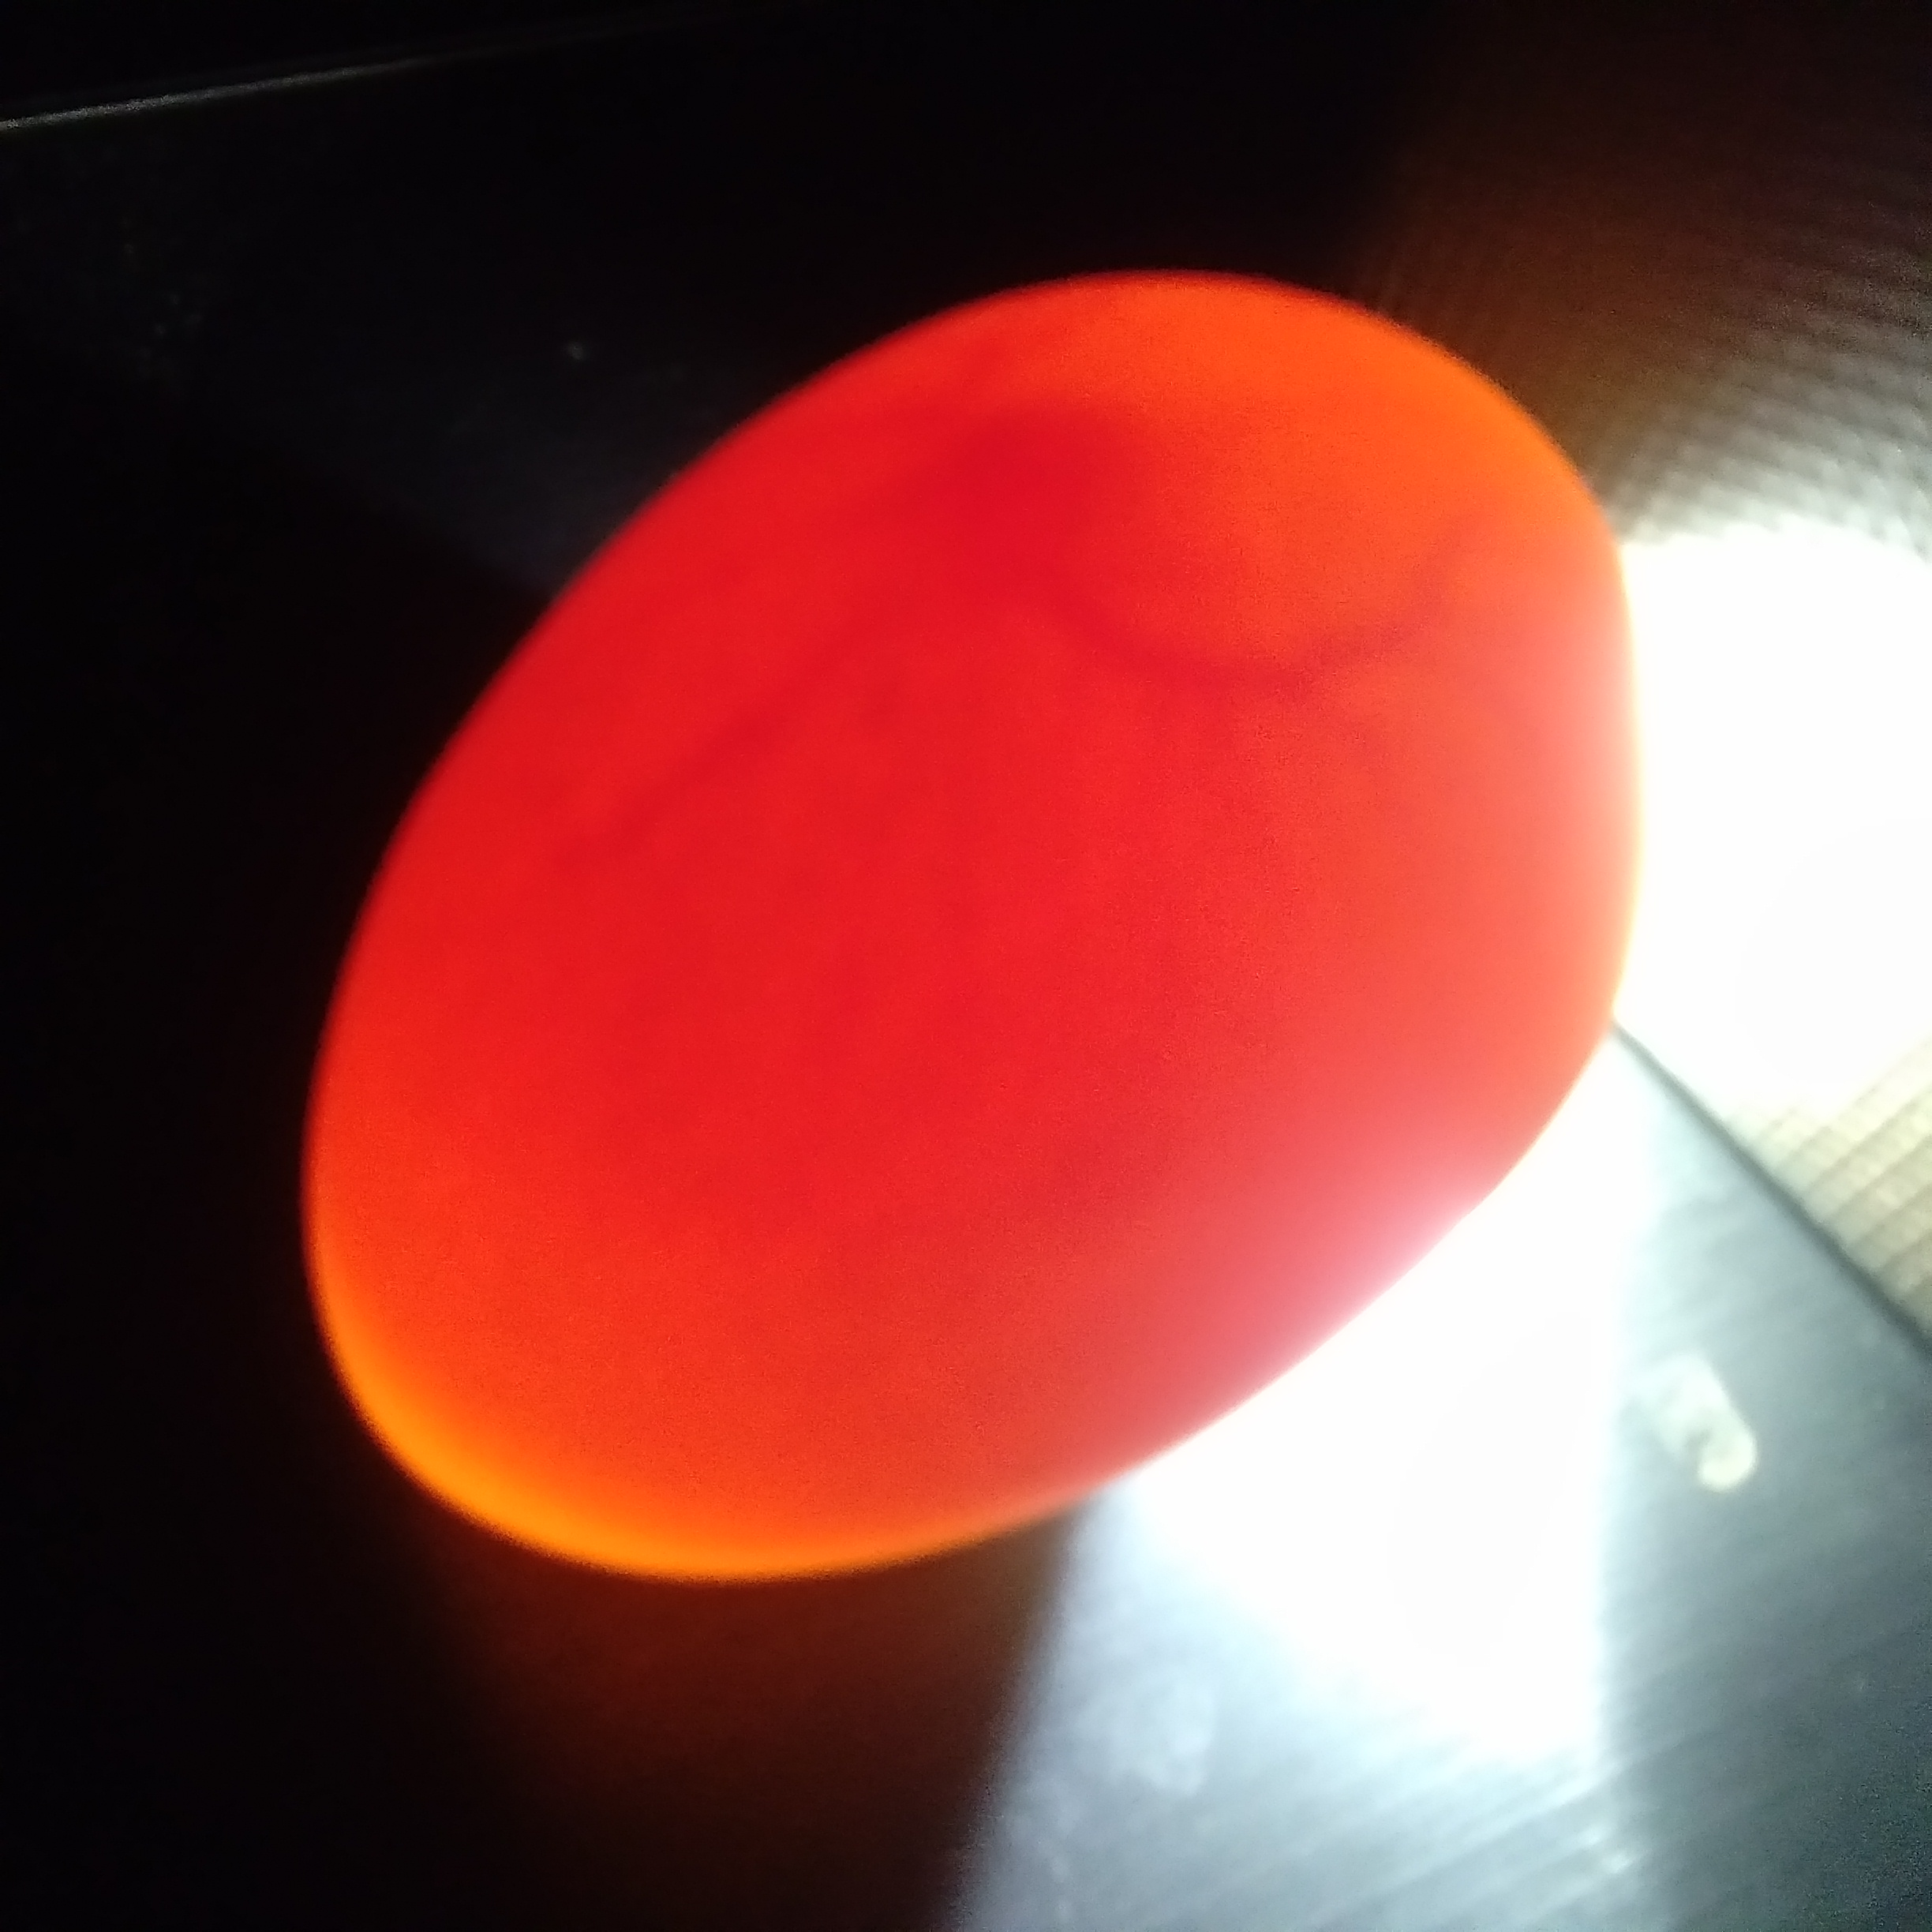bloodcell: (1196, 515, 1545, 916), (658, 518, 893, 934)
embryo: (950, 395, 1157, 582)
